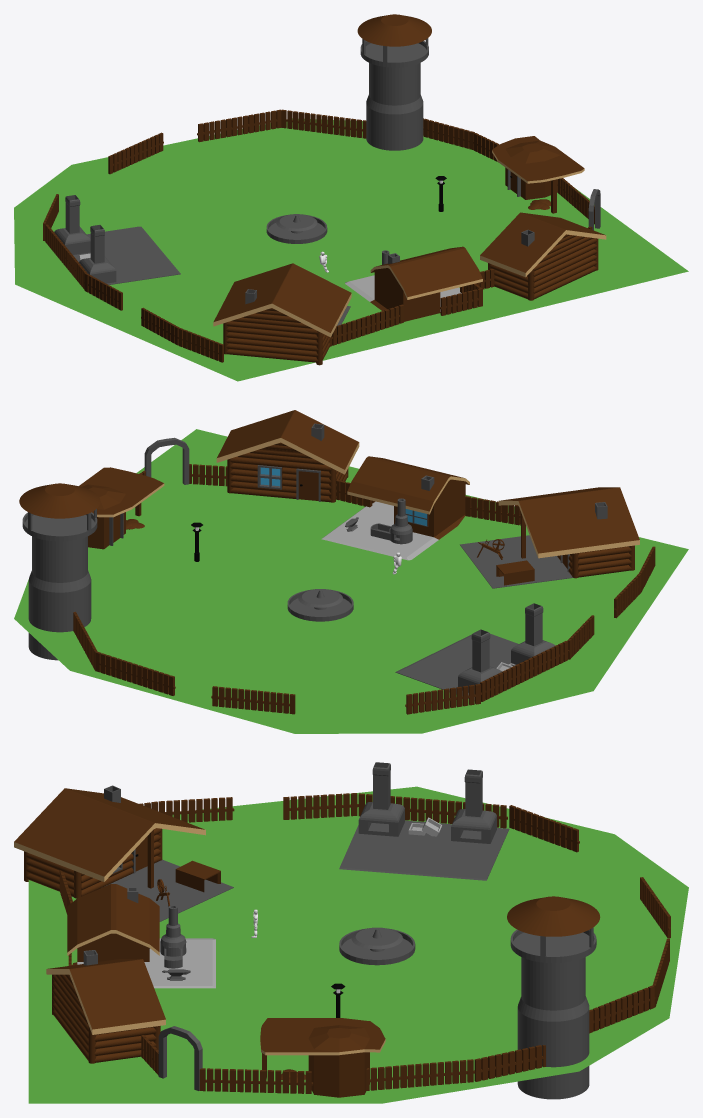
Rendered from LOC0.fbx.
The picture shows the model from 3 angles, top to bottom: view 1: azimuth 30°, elevation 25°; view 2: azimuth 150°, elevation 25°; view 3: azimuth 270°, elevation 25°; orthographic projection. The views are drawn at different scales.
Visible parts, largest first — view 1: Plane, Cube.008, Cylinder.003, Cube.001, Cube.002, Cube.020, Cube.018, Cube.029, Cube.030, Cylinder, Cube.011, Cube.028 (+7 smaller); view 2: Plane, Cylinder.003, Cube.001, Cube.008, Cube.002, Cube.020, Cube.018, Cube.007, Cube.026, Cylinder, Cube.028, Cube.030 (+9 smaller); view 3: Plane, Cylinder.003, Cube.008, Cube.020, Cube.001, Cube.002, Cube.018, Cube.007, Cube.017, Cube.022, Cylinder, Cube.026 (+10 smaller).
Part boxes in pixels (x1,y1,x2,y2): Plane: (14,118,688,381); Cube.008: (213,263,351,365); Cylinder.003: (357,14,431,150); Cube.001: (480,212,606,300); Cube.002: (345,246,482,321); Cube.020: (54,195,180,284); Cube.018: (492,136,584,213); Cube.029: (281,109,366,138); Cube.030: (197,109,281,142); Cylinder: (266,214,327,243); Cube.011: (329,304,403,346); Cube.028: (108,132,163,174); Plane: (14,429,688,733); Cylinder.003: (19,483,100,660); Cube.001: (216,410,359,502); Cube.008: (498,487,639,578); Cube.002: (321,456,469,560); Cube.020: (395,603,555,700); Cube.018: (79,467,164,549); Cube.007: (460,535,573,588); Cube.026: (480,641,567,701); Cylinder: (287,589,353,621); Cube.028: (211,686,295,714); Cube.030: (95,651,175,695); Plane: (28,786,688,1103); Cylinder.003: (507,896,600,1099); Cube.008: (14,785,205,898); Cube.020: (339,762,509,880); Cube.001: (46,950,165,1063); Cube.002: (67,884,215,988); Cube.018: (260,1018,385,1097); Cube.007: (71,859,233,921); Cube.017: (199,1068,313,1093); Cube.022: (366,1059,475,1090); Cylinder: (339,927,415,965); Cube.026: (358,793,507,828).
Bounding box in the file's own units: 24833 × 6595 × 22338.
